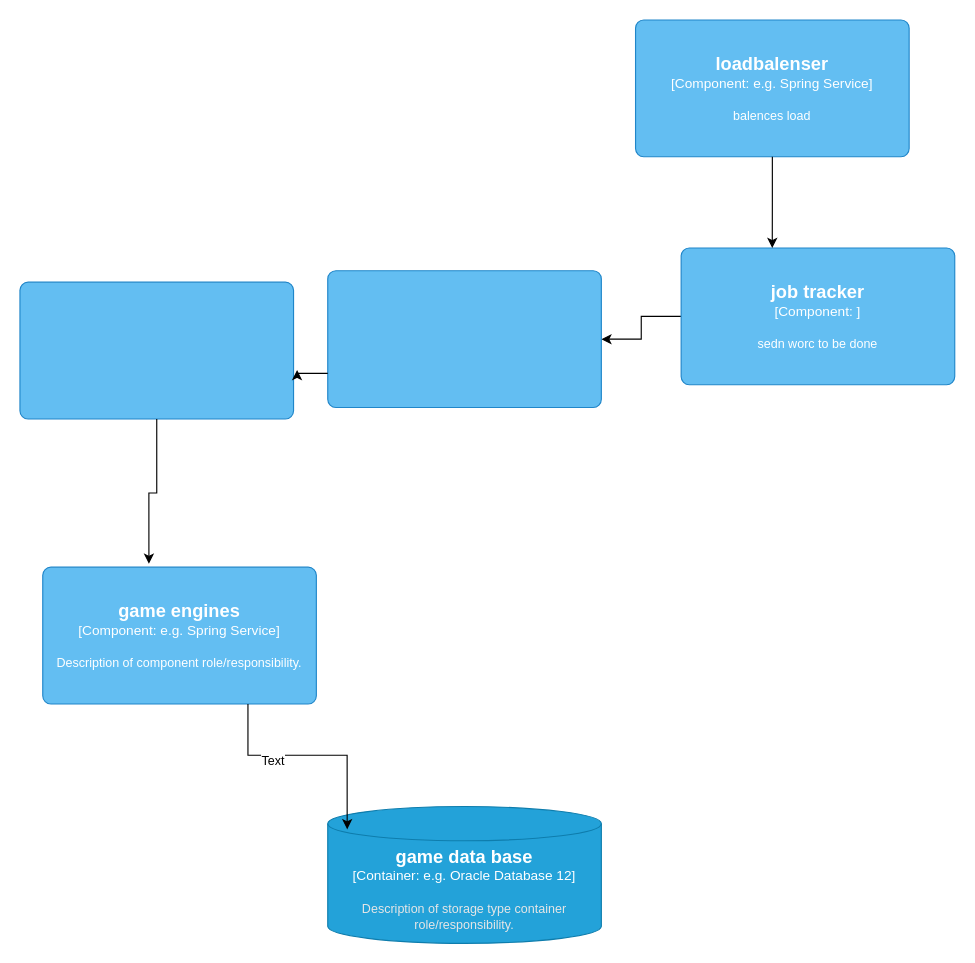
Some shapes in this 975 by 963 pixel diagram are drawn without their labels. Each missing label, with the box of its shape:
loadbalenser [Component: ] balences load: (19, 281, 294, 419)
match maker [Component: ] makes matches: (327, 270, 601, 408)
